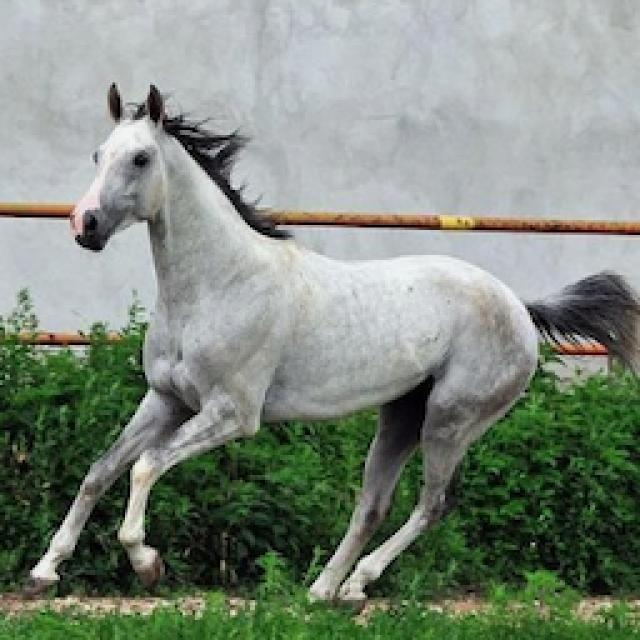Horse: (15, 75, 638, 613)
